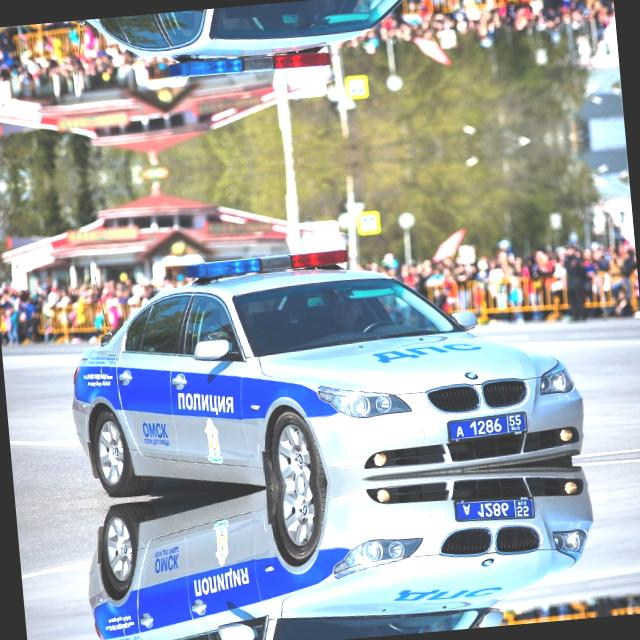police: (442, 408, 530, 442), (449, 492, 537, 526)
